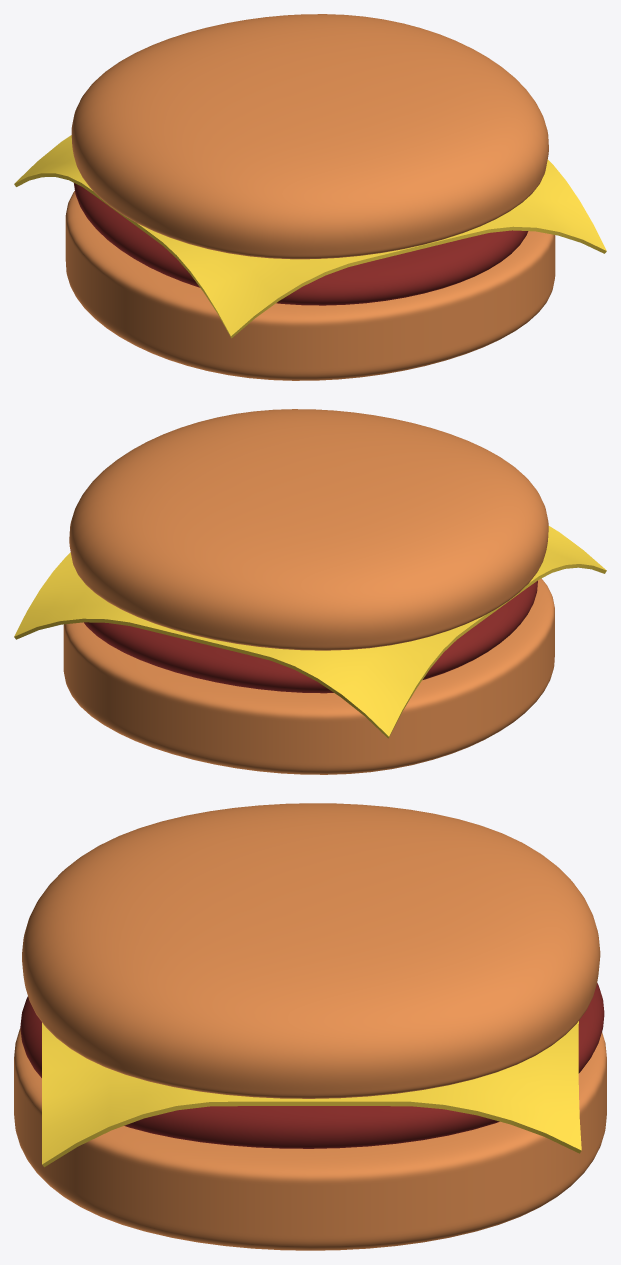
File: hamburger-draco.glb
3 renders of one model, top to bottom at view 1: azimuth 30°, elevation 25°; view 2: azimuth 150°, elevation 25°; view 3: azimuth 270°, elevation 25°, orthographic. The views are drawn at different scales.
Parts seen in each view (by area): view 1: Cube.002, Cube, Plane, Cube.001; view 2: Cube.002, Cube, Plane, Cube.001; view 3: Cube.002, Cube, Plane, Cube.001.
Part boxes in pixels (x1,y1,x2,y2): Cube.002: [71, 14, 548, 259]; Cube: [65, 191, 555, 380]; Plane: [14, 135, 606, 338]; Cube.001: [74, 183, 528, 305]; Cube.002: [69, 409, 548, 650]; Cube: [63, 578, 554, 774]; Plane: [14, 526, 606, 738]; Cube.001: [84, 580, 537, 693]; Cube.002: [22, 803, 600, 1098]; Cube: [14, 1028, 606, 1250]; Plane: [42, 1021, 581, 1167]; Cube.001: [20, 983, 604, 1148].
Size of the model in its own units: 9.27 by 4.54 by 9.27.
